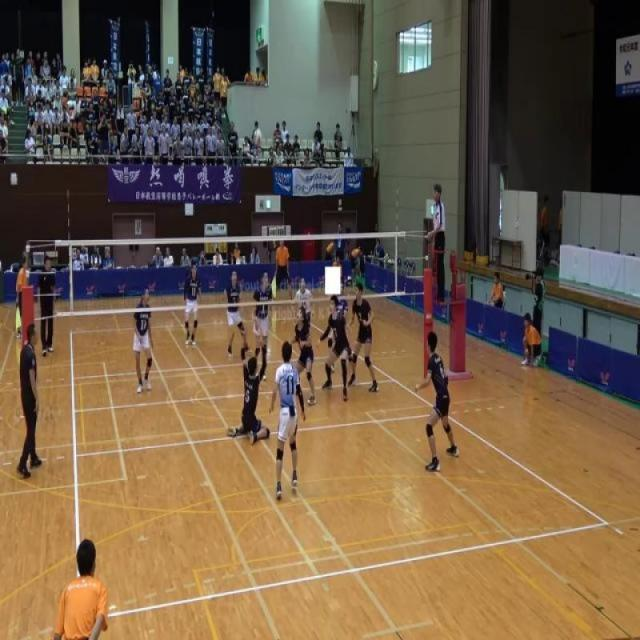volleyball: (253, 128, 262, 146)
